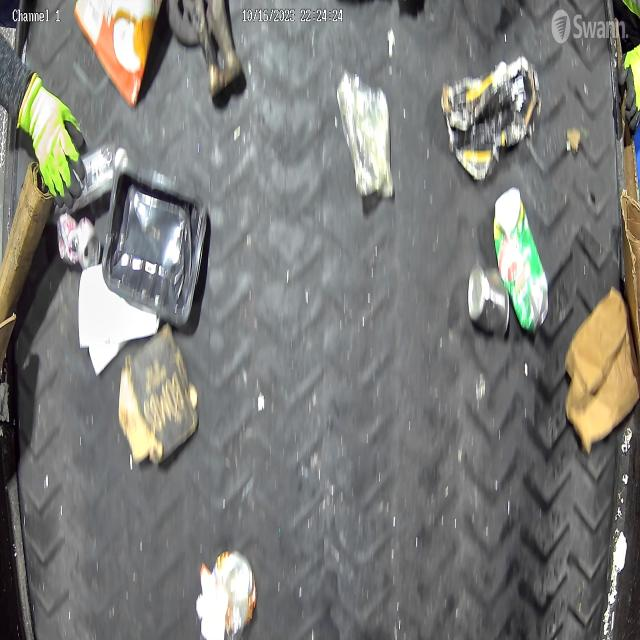can: (492, 186, 548, 332), (205, 547, 257, 640), (468, 263, 512, 339), (56, 212, 101, 271)
